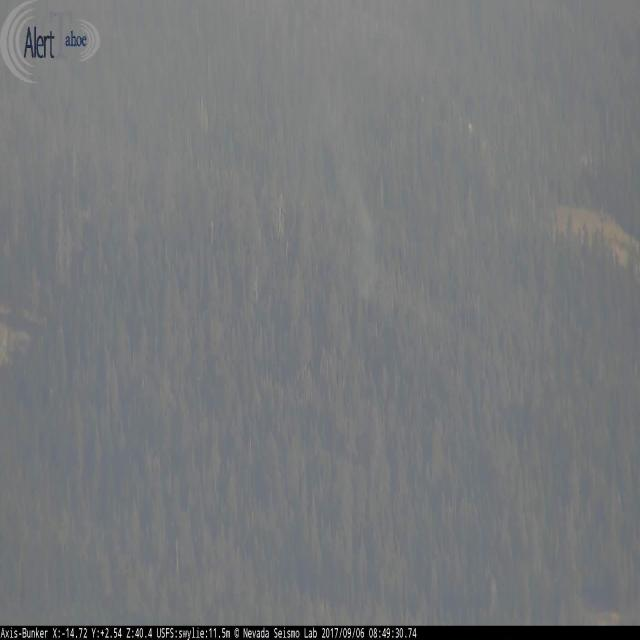smoke: (322, 78, 390, 300)
